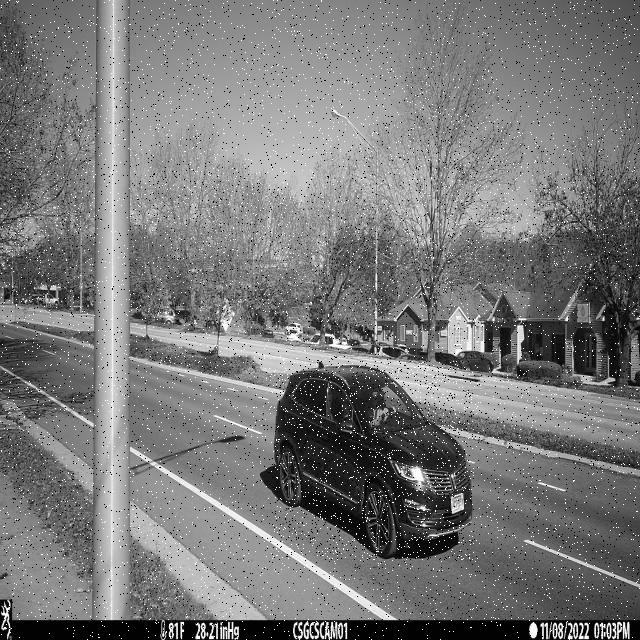SUV: (274, 361, 474, 560)
